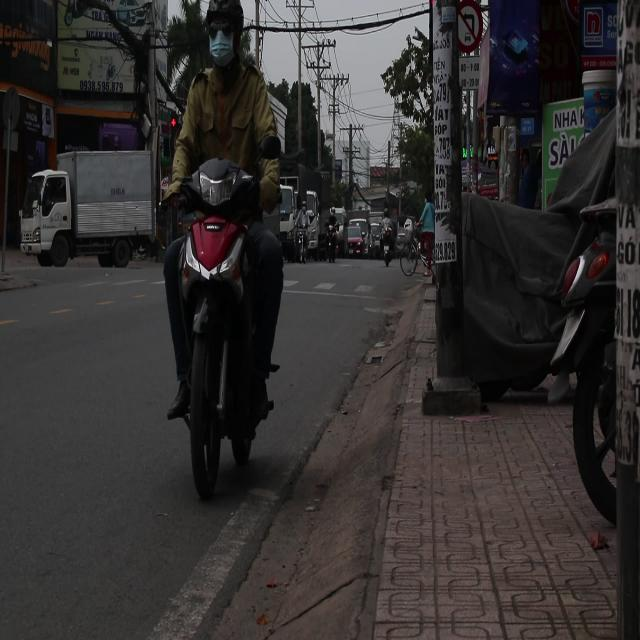car: (342, 221, 370, 257)
motorbike: (164, 219, 280, 497), (382, 222, 404, 269), (380, 224, 395, 264)
truck: (20, 150, 158, 270), (276, 175, 318, 256)
